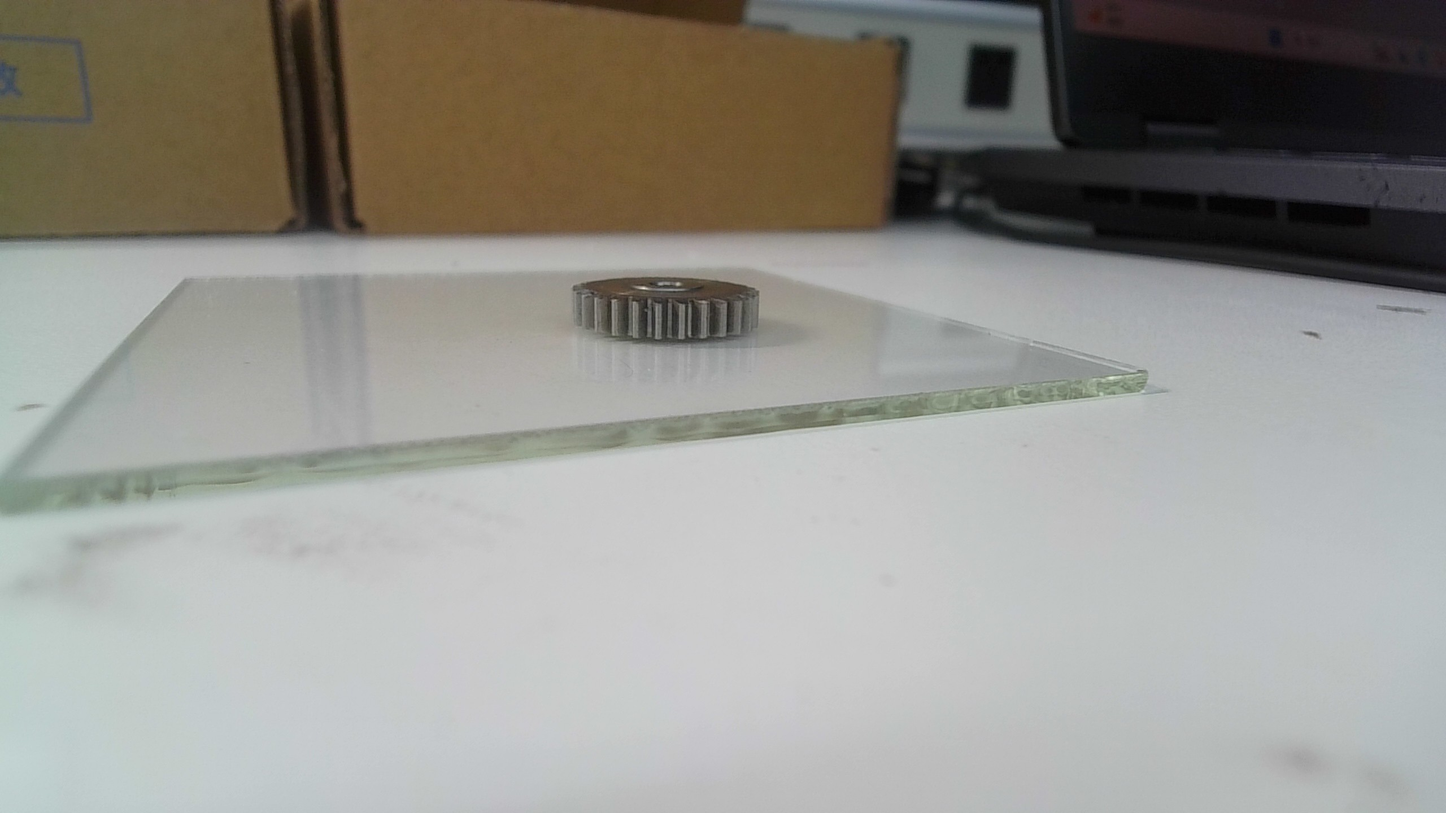gear: (569, 276, 764, 344)
